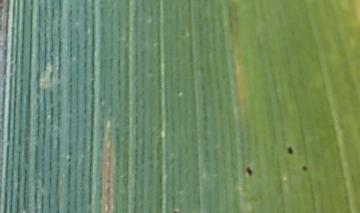tarspot: (284, 144, 295, 156), (244, 164, 254, 177), (299, 163, 310, 173), (169, 208, 182, 213)
